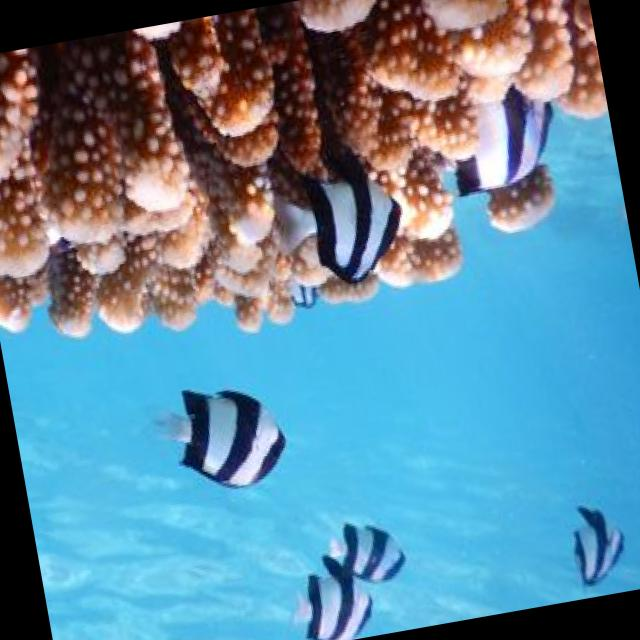ThreeStripedDamselfish: (151, 384, 286, 487), (274, 172, 397, 281), (304, 555, 369, 640), (332, 521, 406, 581)
